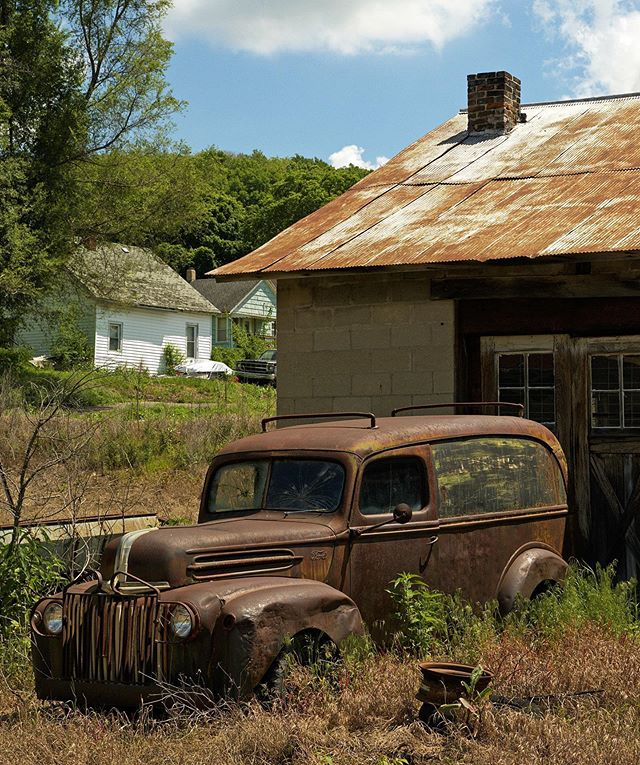building: (263, 93, 640, 565), (34, 229, 220, 384)
car: (31, 412, 585, 732)
sky: (191, 1, 640, 135)
tree: (1, 1, 180, 243)
